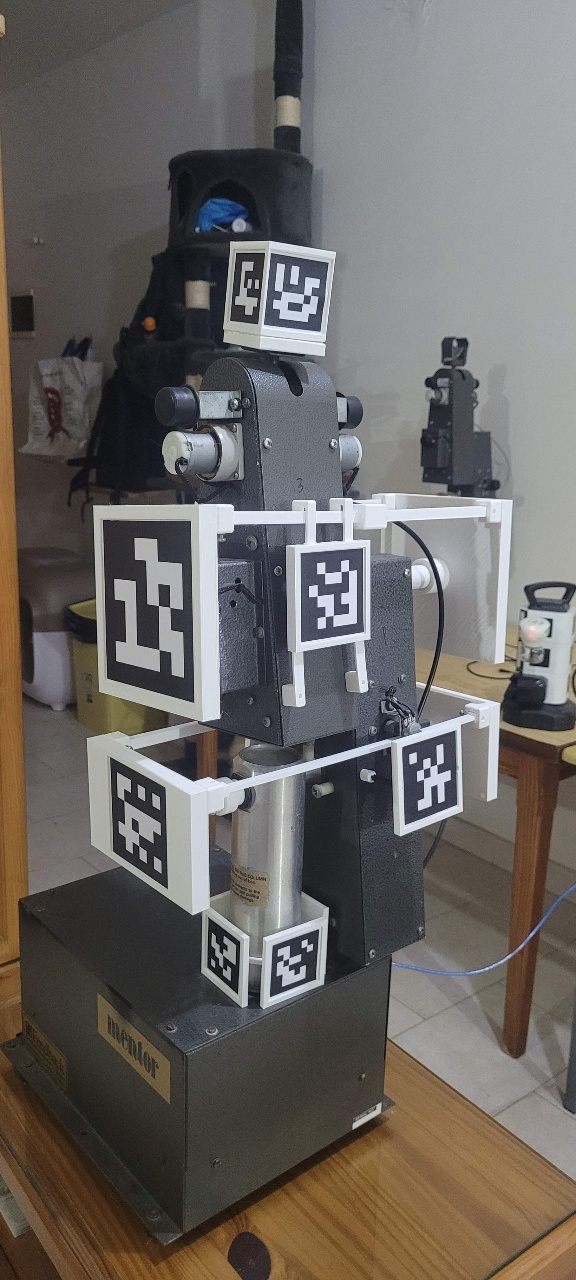Robot: (37, 309, 560, 1014)
